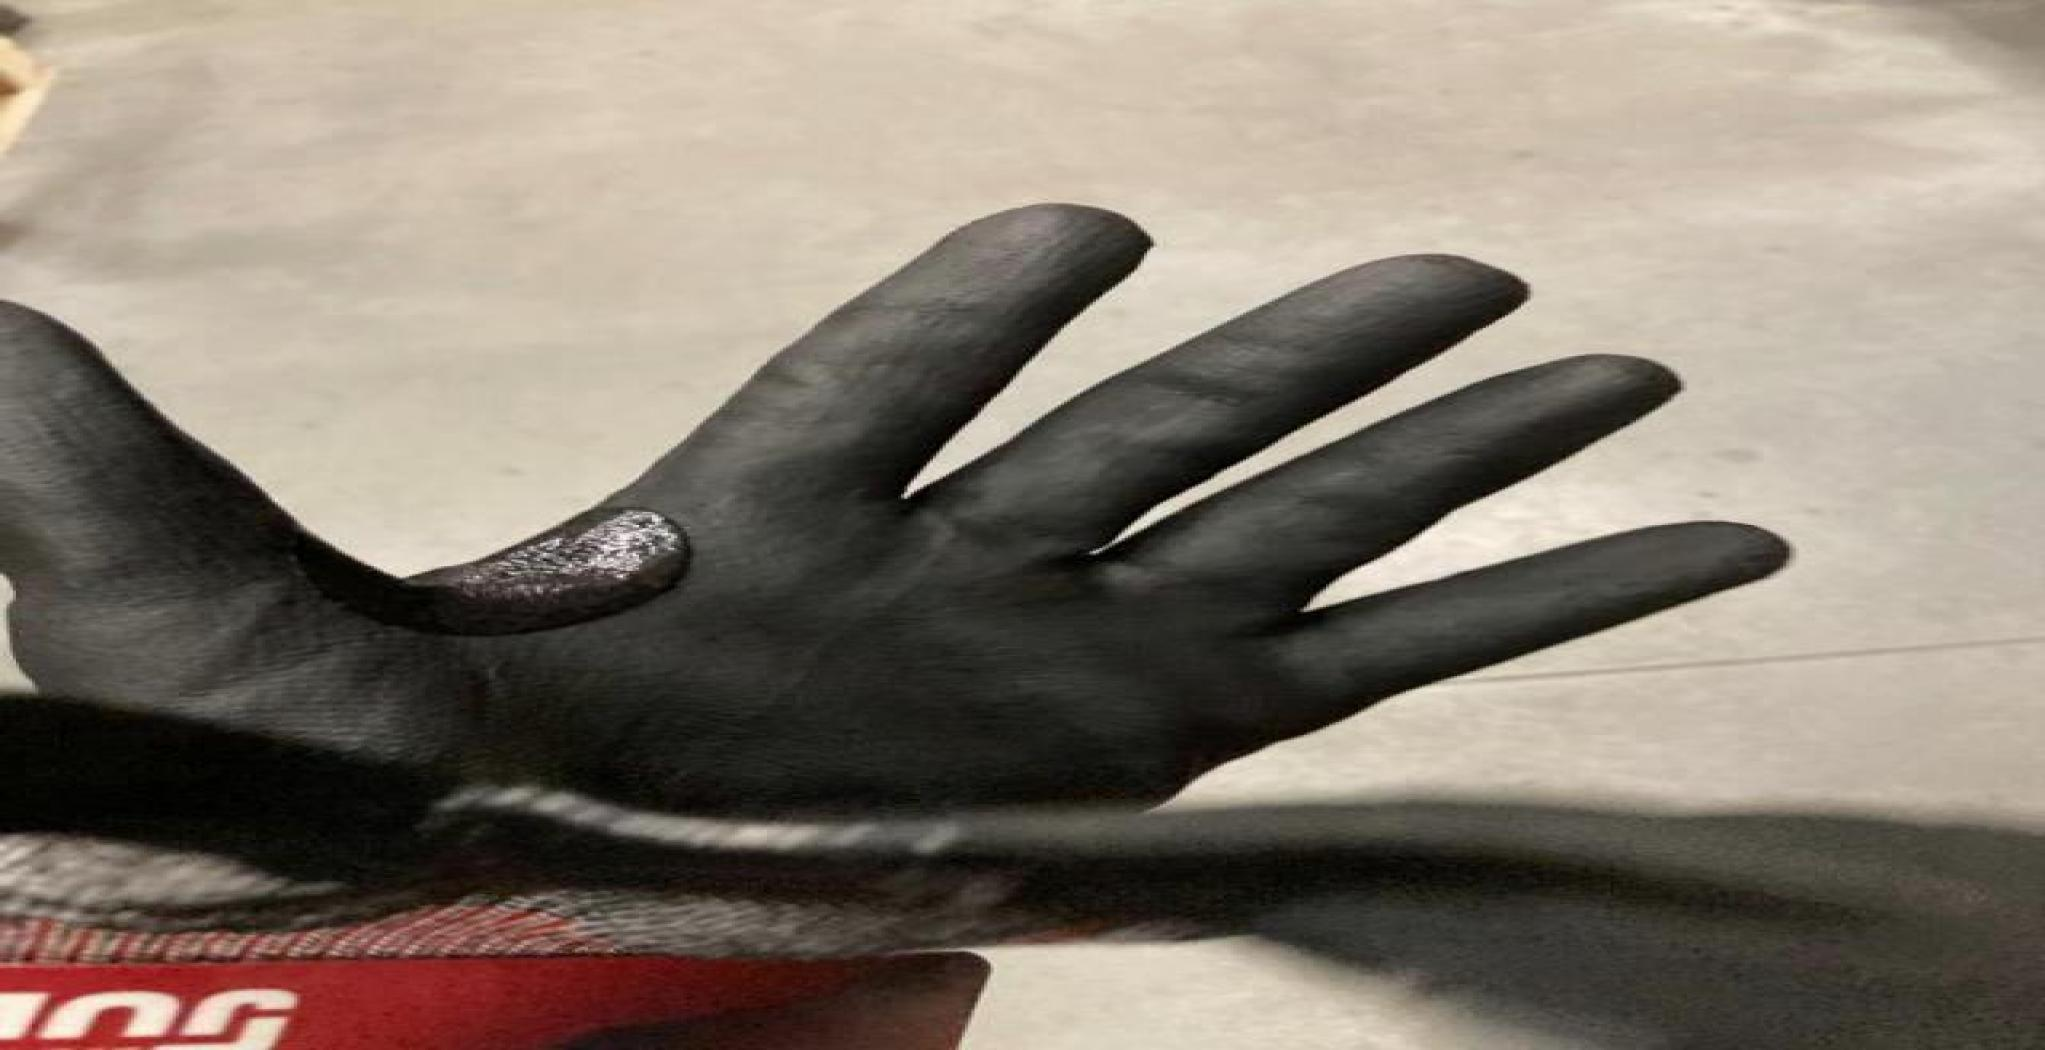gloved: (0, 197, 1796, 942)
